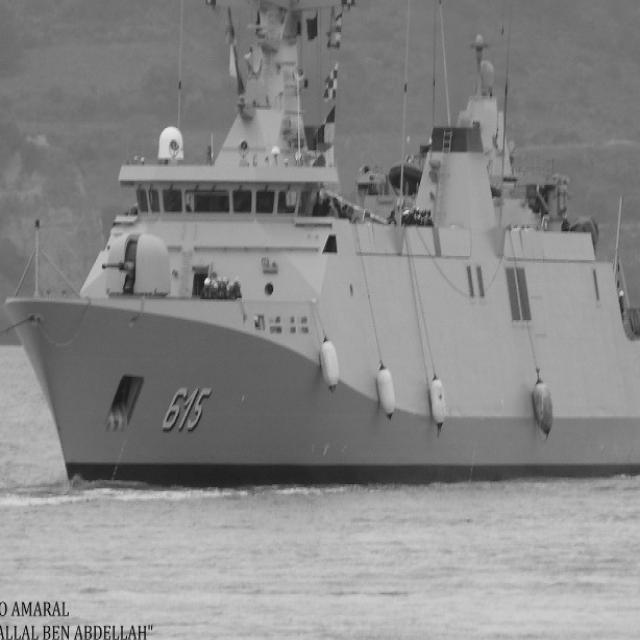Fragata: (1, 1, 640, 500)
